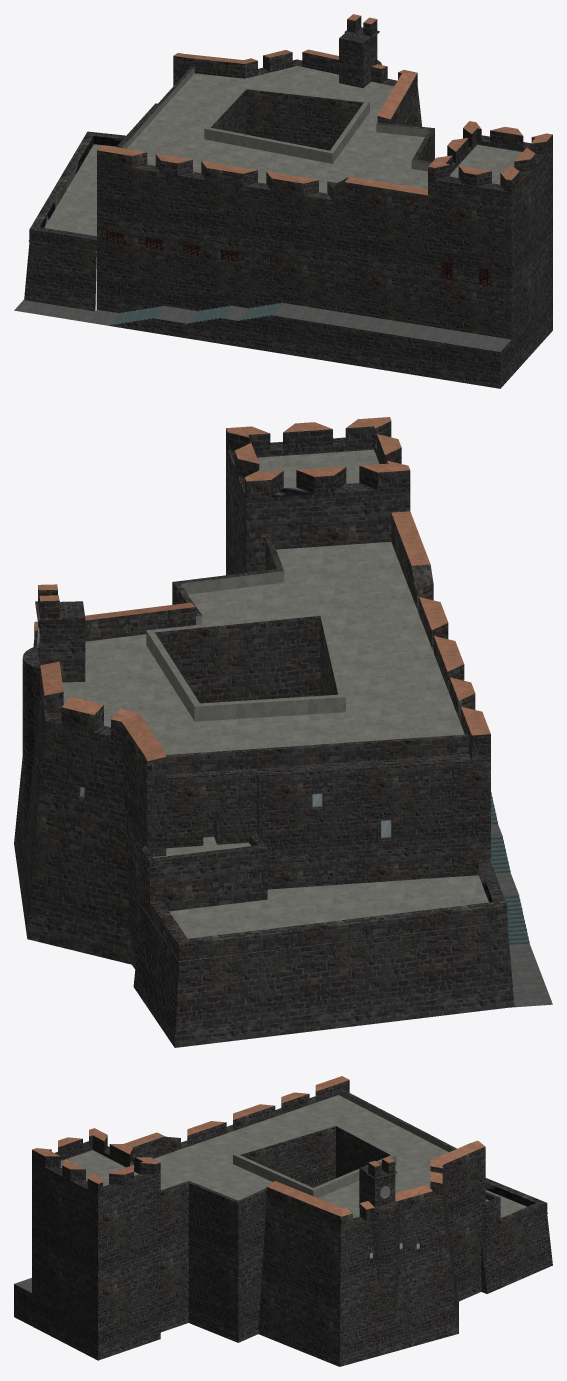
File: castel_panelleria_v1.gltf
3 renders of one model, top to bottom at view 1: azimuth 30°, elevation 25°; view 2: azimuth 150°, elevation 25°; view 3: azimuth 270°, elevation 25°, orthographic. The views are drawn at different scales.
Parts seen in each view (by area): view 1: root, object 8; view 2: root, object 8; view 3: root, object 8.
Part boxes in pixels (bbox=[...]): root: bbox=[24, 14, 552, 375]; object 8: bbox=[14, 300, 511, 388]; root: bbox=[14, 417, 514, 1047]; object 8: bbox=[491, 792, 552, 1007]; root: bbox=[32, 1076, 552, 1366]; object 8: bbox=[14, 1278, 31, 1325].
Bounding box in the file's own units: 51.01 × 25 × 66.33.
12 materials, 10 textured.
